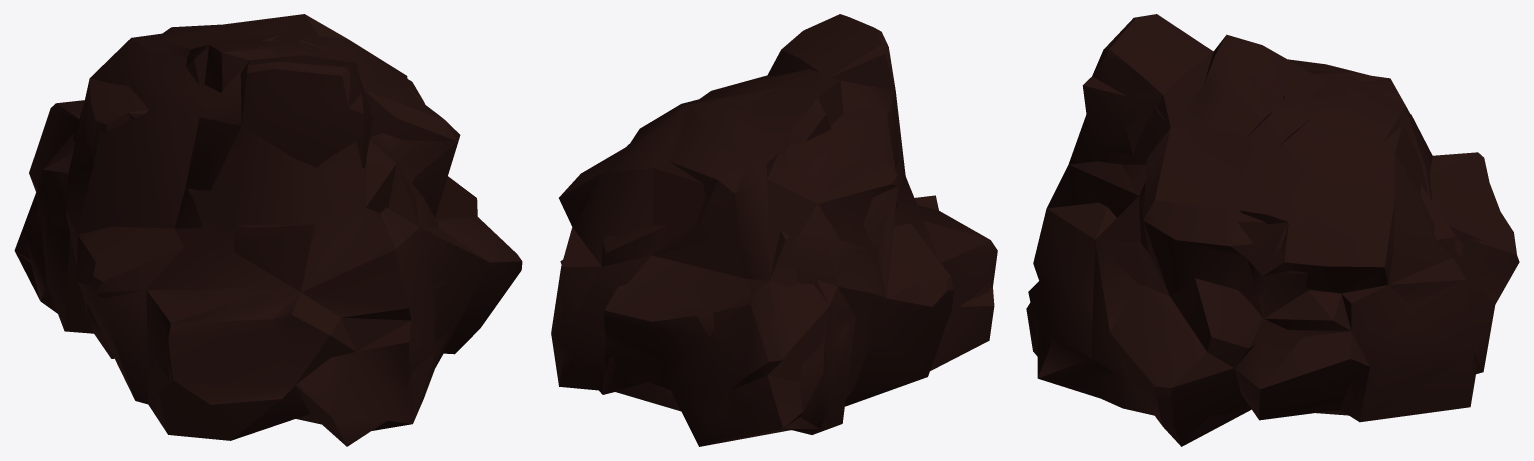
The model's file is SM_Rock_Collection_04.fbx.
The picture shows the model from 3 angles, left to right: view 1: azimuth 30°, elevation 25°; view 2: azimuth 150°, elevation 25°; view 3: azimuth 270°, elevation 25°; orthographic projection. The views are drawn at different scales.
Parts seen in each view (by area): view 1: Rock_Collection_04, Rock_Collection_04_col; view 2: Rock_Collection_04, Rock_Collection_04_col; view 3: Rock_Collection_04, Rock_Collection_04_col.
Boxes of the visible parts, bbox=[...] form: Rock_Collection_04: bbox=[14, 14, 522, 446]; Rock_Collection_04_col: bbox=[15, 14, 489, 424]; Rock_Collection_04: bbox=[551, 14, 997, 446]; Rock_Collection_04_col: bbox=[551, 80, 990, 446]; Rock_Collection_04: bbox=[1026, 14, 1519, 446]; Rock_Collection_04_col: bbox=[1037, 69, 1516, 446].
Bounding box in the file's own units: 276 × 241 × 317.
